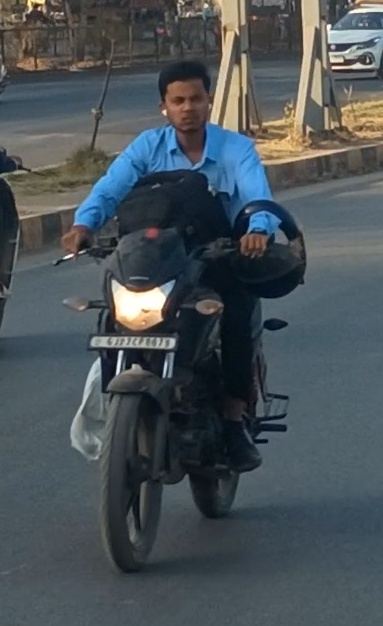BikeWithRider: (47, 59, 315, 582)
NoHelmet: (153, 61, 217, 136)
